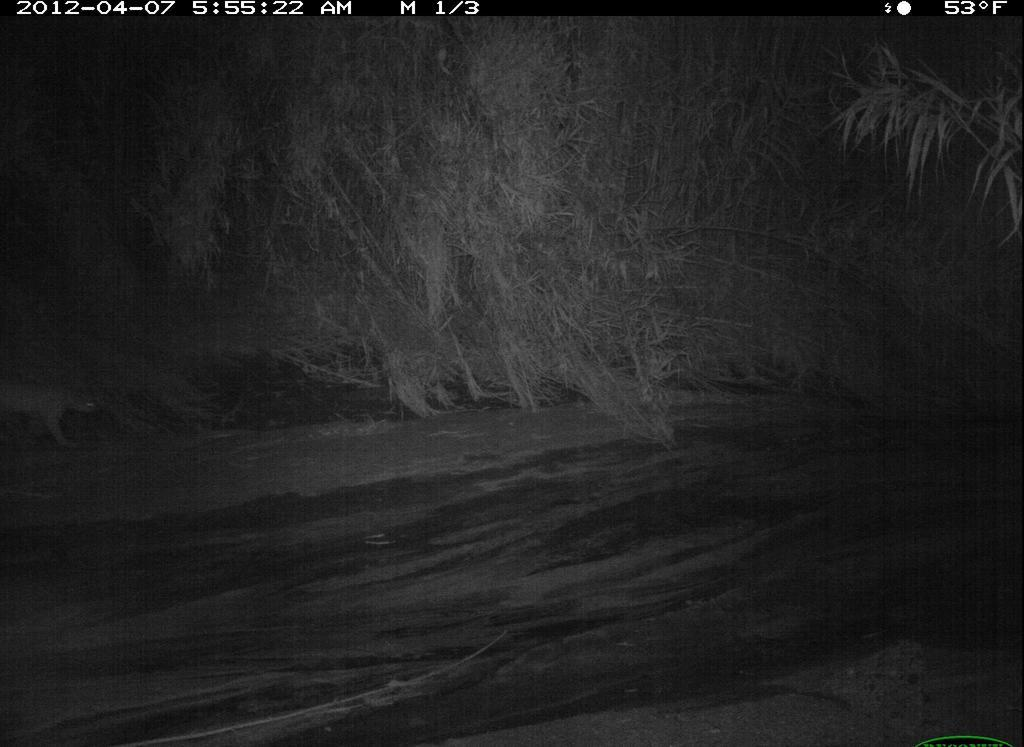bobcat: (1, 372, 112, 459)
